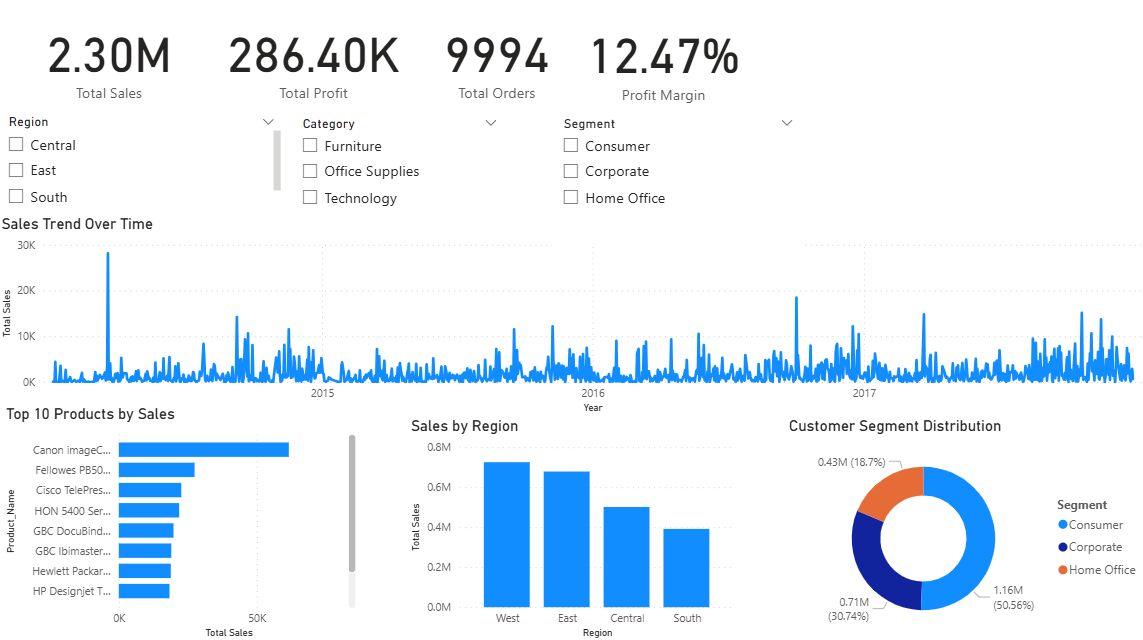

The page's visual inventory and layout, read from the dashboard file:
{"tool":"powerbi","page":{"name":"Page 1","canvas":[1280,720],"ordinal":0},"visuals":[{"type":"card","fields":{"Values":["superstore.Total Sales"]},"box":[0,0,248.4,141.1],"z":0},{"type":"card","fields":{"Values":["superstore.Total Orders"]},"box":[472.4,12.9,166.7,114.9],"z":1000},{"type":"card","fields":{"Values":["superstore.Profit Margin"]},"box":[639.1,14.6,203.9,114.9],"z":2000},{"type":"card","fields":{"Values":["superstore.Total Profit"]},"box":[247.6,0,206,141.7],"z":3000},{"type":"lineChart","title":"Sales Trend Over Time","fields":{"Category":["superstore.Order_Date.Variation.Date Hierarchy.Year","superstore.Order_Date.Variation.Date Hierarchy.Quarter","superstore.Order_Date.Variation.Date Hierarchy.Month","superstore.Order_Date.Variation.Date Hierarchy.Day"],"Y":["superstore.Total Sales"]},"box":[0,244.3,1279.8,224.9],"z":4000},{"type":"clusteredBarChart","title":"Top 10 Products by Sales","fields":{"Category":["superstore.Product_Name"],"Y":["superstore.Total Sales"]},"box":[5,456.7,398.3,263.3],"z":5000},{"type":"clusteredColumnChart","title":"Sales by Region","fields":{"Category":["superstore.Region"],"Y":["superstore.Total Sales"]},"box":[455,470,370,250],"z":6000},{"type":"donutChart","title":"Customer Segment Distribution","fields":{"Category":["superstore.Segment"],"Y":["superstore.Total Sales"]},"box":[875,470,405,250],"z":7000},{"type":"slicer","fields":{"Values":["superstore.Region"]},"box":[0,127.8,320.4,116.5],"z":8000},{"type":"slicer","fields":{"Values":["superstore.Category"]},"box":[327.4,129.8,240.8,114.8],"z":9000},{"type":"slicer","fields":{"Values":["superstore.Segment"]},"box":[616.7,130,280,150],"z":10000}]}

Visuals, with their boxes in screenshot pixels (x1, y1, x2, y2), scaled from the page's 1280x720 canvas onto the 1143x640 screenshot:
card - superstore.Total Sales: <bbox>0, 0, 222, 125</bbox>
card - superstore.Total Orders: <bbox>422, 11, 571, 114</bbox>
card - superstore.Profit Margin: <bbox>571, 13, 753, 115</bbox>
card - superstore.Total Profit: <bbox>221, 0, 405, 126</bbox>
"Sales Trend Over Time" lineChart: <bbox>0, 217, 1142, 417</bbox>
"Top 10 Products by Sales" clusteredBarChart: <bbox>4, 406, 360, 639</bbox>
"Sales by Region" clusteredColumnChart: <bbox>406, 418, 737, 639</bbox>
"Customer Segment Distribution" donutChart: <bbox>781, 418, 1142, 639</bbox>
slicer - superstore.Region: <bbox>0, 114, 286, 217</bbox>
slicer - superstore.Category: <bbox>292, 115, 507, 217</bbox>
slicer - superstore.Segment: <bbox>551, 116, 801, 249</bbox>
